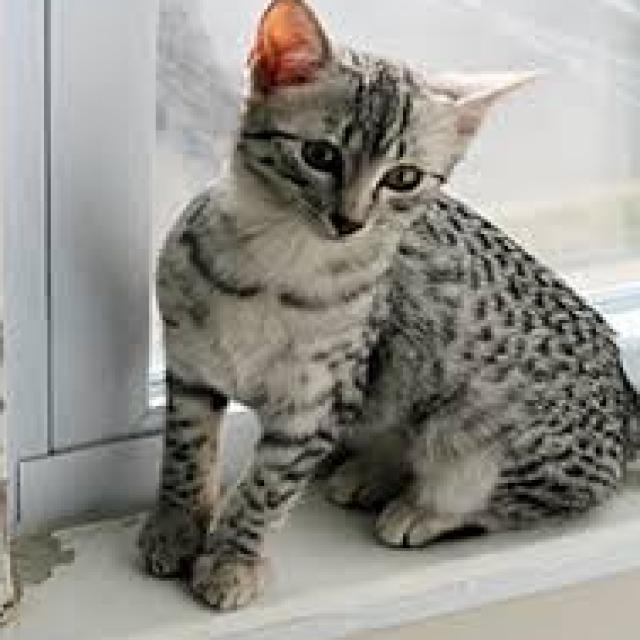Egyptian Mau: (128, 0, 640, 616)
